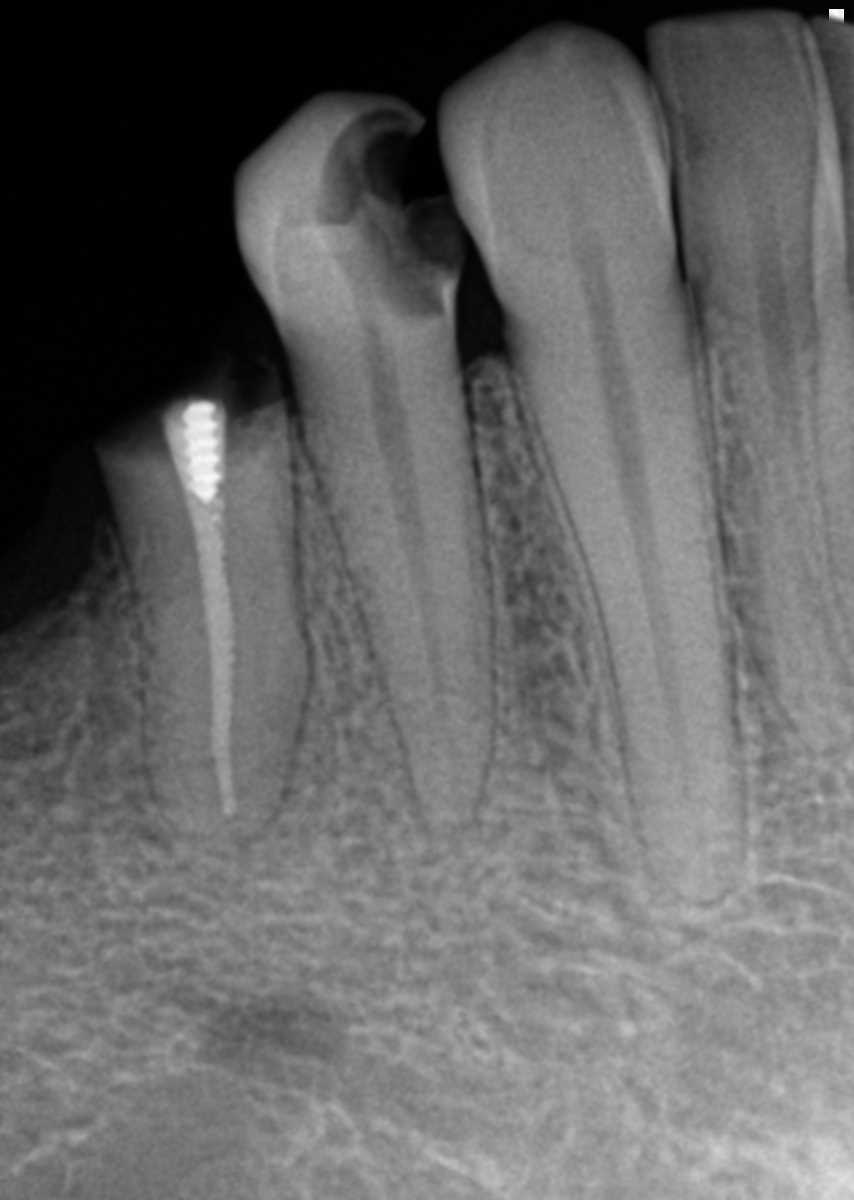Main Canal: (582, 283, 713, 883), (370, 374, 459, 801), (754, 279, 819, 561)
Main Root: (504, 266, 756, 909), (310, 362, 498, 843), (114, 429, 307, 850), (702, 263, 854, 752)
Root Canal Filling: (194, 496, 239, 829)
decay: (324, 112, 455, 328)
